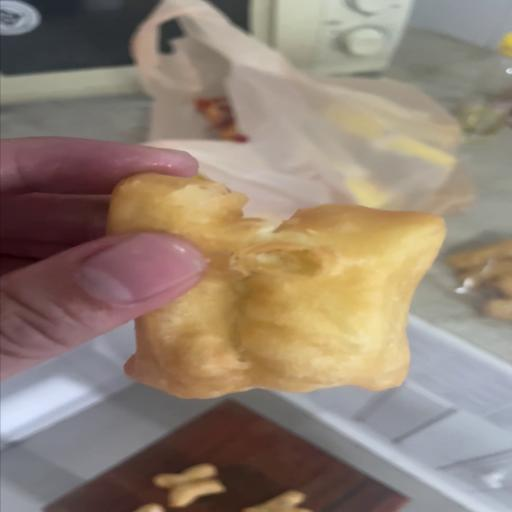street_golden_defect: (108, 174, 445, 398)
